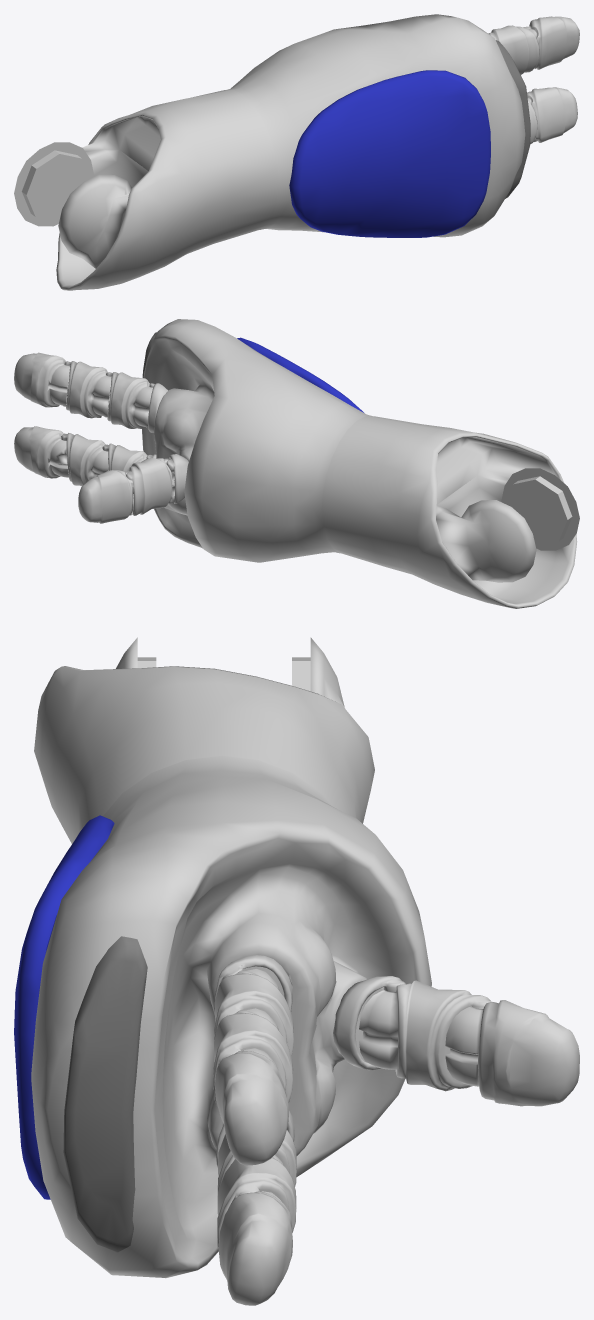
Rendered from RElbowRoll.dae.
The picture shows the model from 3 angles, top to bottom: view 1: azimuth 30°, elevation 25°; view 2: azimuth 150°, elevation 25°; view 3: azimuth 270°, elevation 25°; orthographic projection. The views are drawn at different scales.
Visible parts, largest first — view 1: root_019; view 2: root_019; view 3: root_019.
Boxes of the visible parts, bbox=[...] form: root_019: bbox=[14, 14, 579, 290]; root_019: bbox=[14, 319, 579, 608]; root_019: bbox=[14, 637, 579, 1305].
Bounding box in the file's own units: 186 × 85.28 × 68.29.
